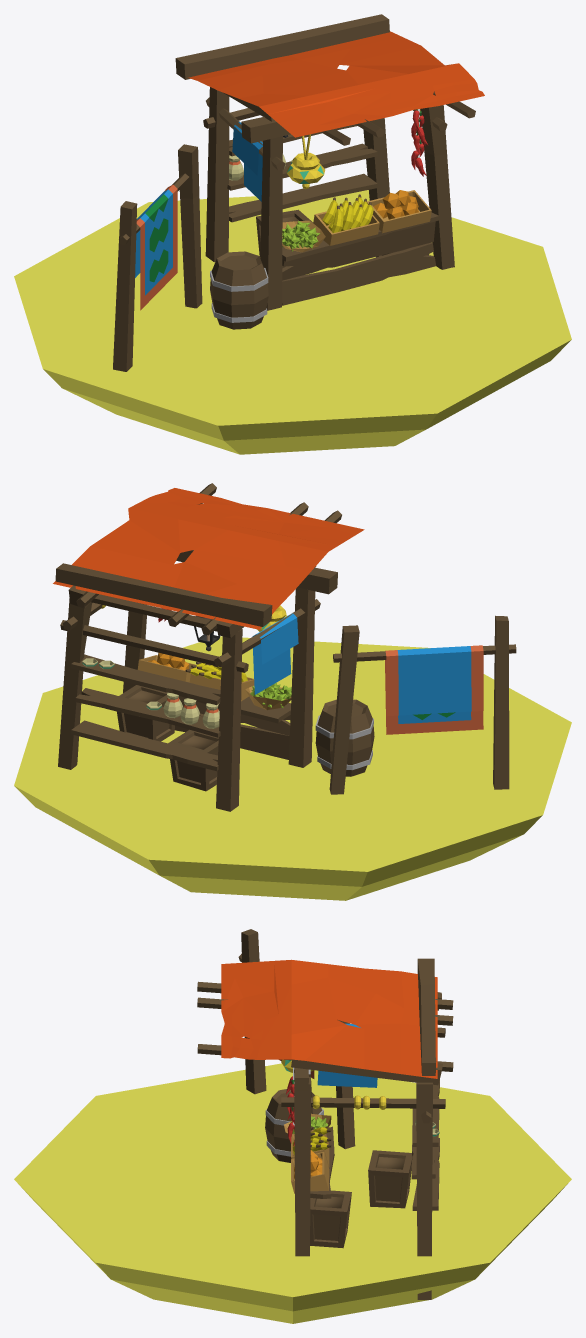
Rendered from oriental_shop.glb.
3 renders of one model, top to bottom at view 1: azimuth 30°, elevation 25°; view 2: azimuth 150°, elevation 25°; view 3: azimuth 270°, elevation 25°, orthographic. The views are drawn at different scales.
Visible parts, largest first — view 1: Sphere, Plane, Cube.001, Cylinder.006, Cube.002, Plane.003, Cube.005, Cube.013, Cube.012, Cube.025, Cube.024, Cube.003 (+9 smaller); view 2: Sphere, Plane, Plane.003, Cube.001, Cube.005, Cube.013, Cube, Cube.024, Cylinder.006, Cube.025, Plane.002, Cube.021 (+14 smaller); view 3: Sphere, Plane, Cube, Cube.012, Ship.000, Ship.008, Cube.001, Cylinder.006, Cube.025, Cube.011, Cylinder.002, Cube.024 (+3 smaller).
Part boxes in pixels (box(x1,y1,x2,y2)): Sphere: box(14, 190, 571, 454); Plane: box(188, 31, 484, 137); Cube.001: box(175, 14, 389, 79); Cylinder.006: box(210, 251, 268, 329); Cube.002: box(282, 242, 435, 305); Plane.003: box(135, 184, 177, 310); Cube.005: box(205, 87, 229, 262); Cube.013: box(260, 136, 282, 310); Cube.012: box(420, 105, 454, 269); Cube.025: box(113, 201, 137, 371); Cube.024: box(178, 144, 202, 308); Cube.003: box(282, 221, 435, 280); Sphere: box(14, 636, 571, 900); Plane: box(53, 488, 364, 629); Plane.003: box(385, 645, 483, 734); Cube.001: box(55, 563, 272, 626); Cube.005: box(216, 629, 242, 811); Cube.013: box(288, 587, 315, 767); Cube: box(58, 598, 92, 769); Cube.024: box(329, 625, 359, 794); Cylinder.006: box(315, 699, 374, 776); Cube.025: box(493, 615, 509, 789); Plane.002: box(252, 613, 298, 694); Cube.021: box(71, 720, 218, 771); Sphere: box(14, 1063, 571, 1323); Plane: box(221, 959, 437, 1078); Cube: box(416, 1082, 432, 1299); Cube.012: box(294, 1077, 310, 1256); Ship.000: box(368, 1150, 412, 1208); Ship.008: box(310, 1190, 351, 1248); Cube.001: box(417, 958, 435, 1075); Cylinder.006: box(265, 1089, 323, 1162); Cube.025: box(241, 929, 266, 1094); Cube.011: box(291, 1059, 442, 1085); Cylinder.002: box(281, 1097, 445, 1108); Cube.024: box(336, 1020, 355, 1149).
Size of the model in its own units: 3.27 by 2.06 by 3.27.
